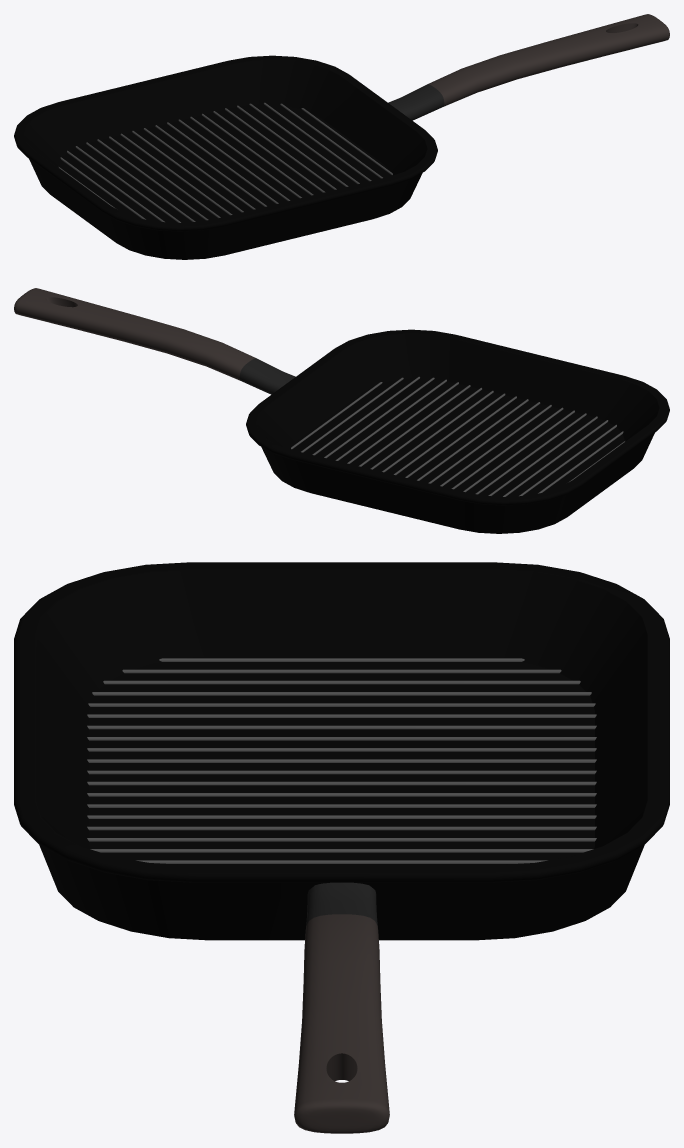
File: pan_grill.glb
3 views of the same model, one above another, from view 1: azimuth 30°, elevation 25°; view 2: azimuth 150°, elevation 25°; view 3: azimuth 270°, elevation 25° (orthographic). The views are drawn at different scales.
Parts seen in each view (by area): view 1: pan_grill.001; view 2: pan_grill.001; view 3: pan_grill.001.
Boxes of the visible parts, bbox=[...] form: pan_grill.001: bbox=[14, 14, 669, 259]; pan_grill.001: bbox=[14, 288, 669, 533]; pan_grill.001: bbox=[14, 562, 669, 1133].
Size of the model in its own units: 0.5327 by 0.0509 by 0.2561.
Materials: 1 (1 with a texture image).
